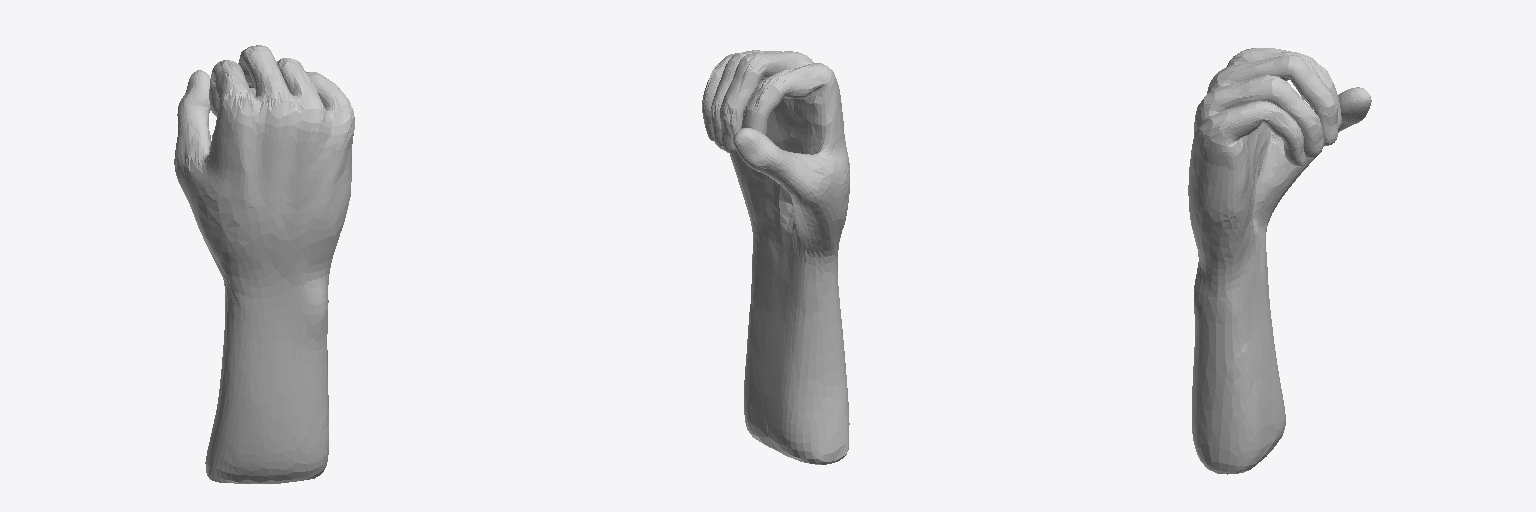
The model's file is maino.obj.
3 renders of one model, left to right at view 1: azimuth 30°, elevation 25°; view 2: azimuth 150°, elevation 25°; view 3: azimuth 270°, elevation 25°, orthographic.
Parts seen in each view (by area): view 1: ZBrush_defualt_group; view 2: ZBrush_defualt_group; view 3: ZBrush_defualt_group.
Part boxes in pixels (left/top/right/bottom): ZBrush_defualt_group: left=174, top=45, right=354, bottom=483; ZBrush_defualt_group: left=702, top=50, right=849, bottom=464; ZBrush_defualt_group: left=1188, top=48, right=1371, bottom=474.
Size of the model in its own units: 2.68 by 7.71 by 3.15.